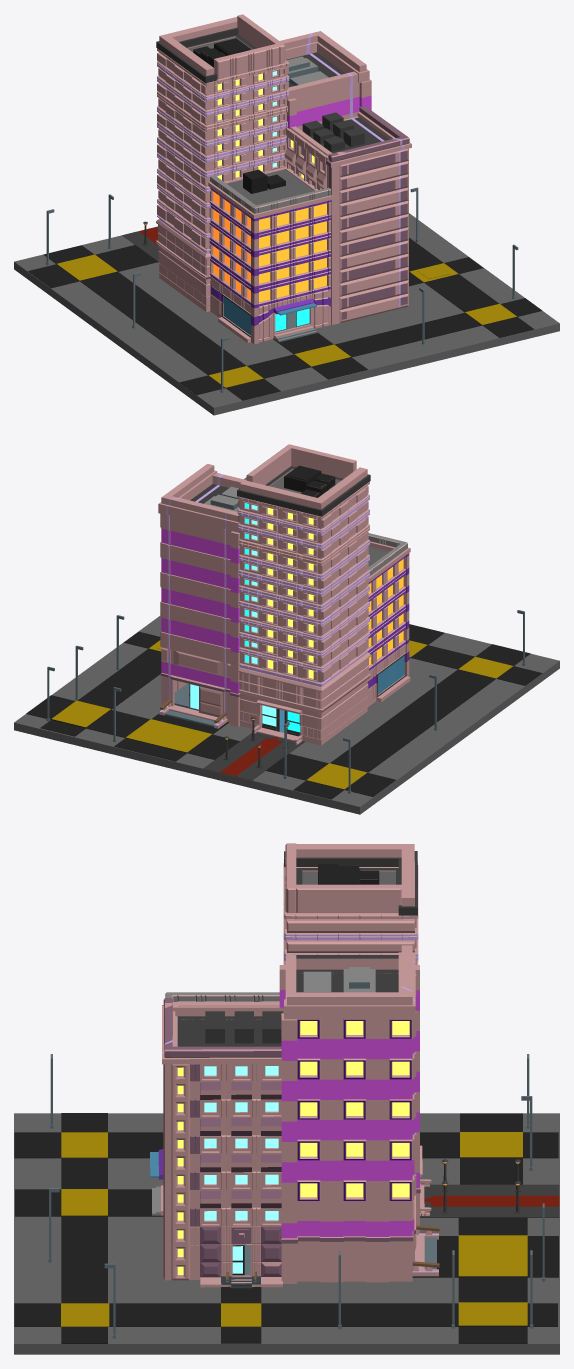
File: hotel.glb
3 views of the same model, one above another, from view 1: azimuth 30°, elevation 25°; view 2: azimuth 150°, elevation 25°; view 3: azimuth 270°, elevation 25° (orthographic). The views are drawn at different scales.
Visible parts, largest first — view 1: Cube; view 2: Cube; view 3: Cube.
Boxes of the visible parts, box(x1,y1,x2,y2) form: Cube: box(14, 14, 559, 415); Cube: box(14, 444, 559, 814); Cube: box(14, 843, 559, 1354).
Bounding box in the file's own units: 2.77 × 1.96 × 2.77.
Materials: 5 (1 with a texture image).
